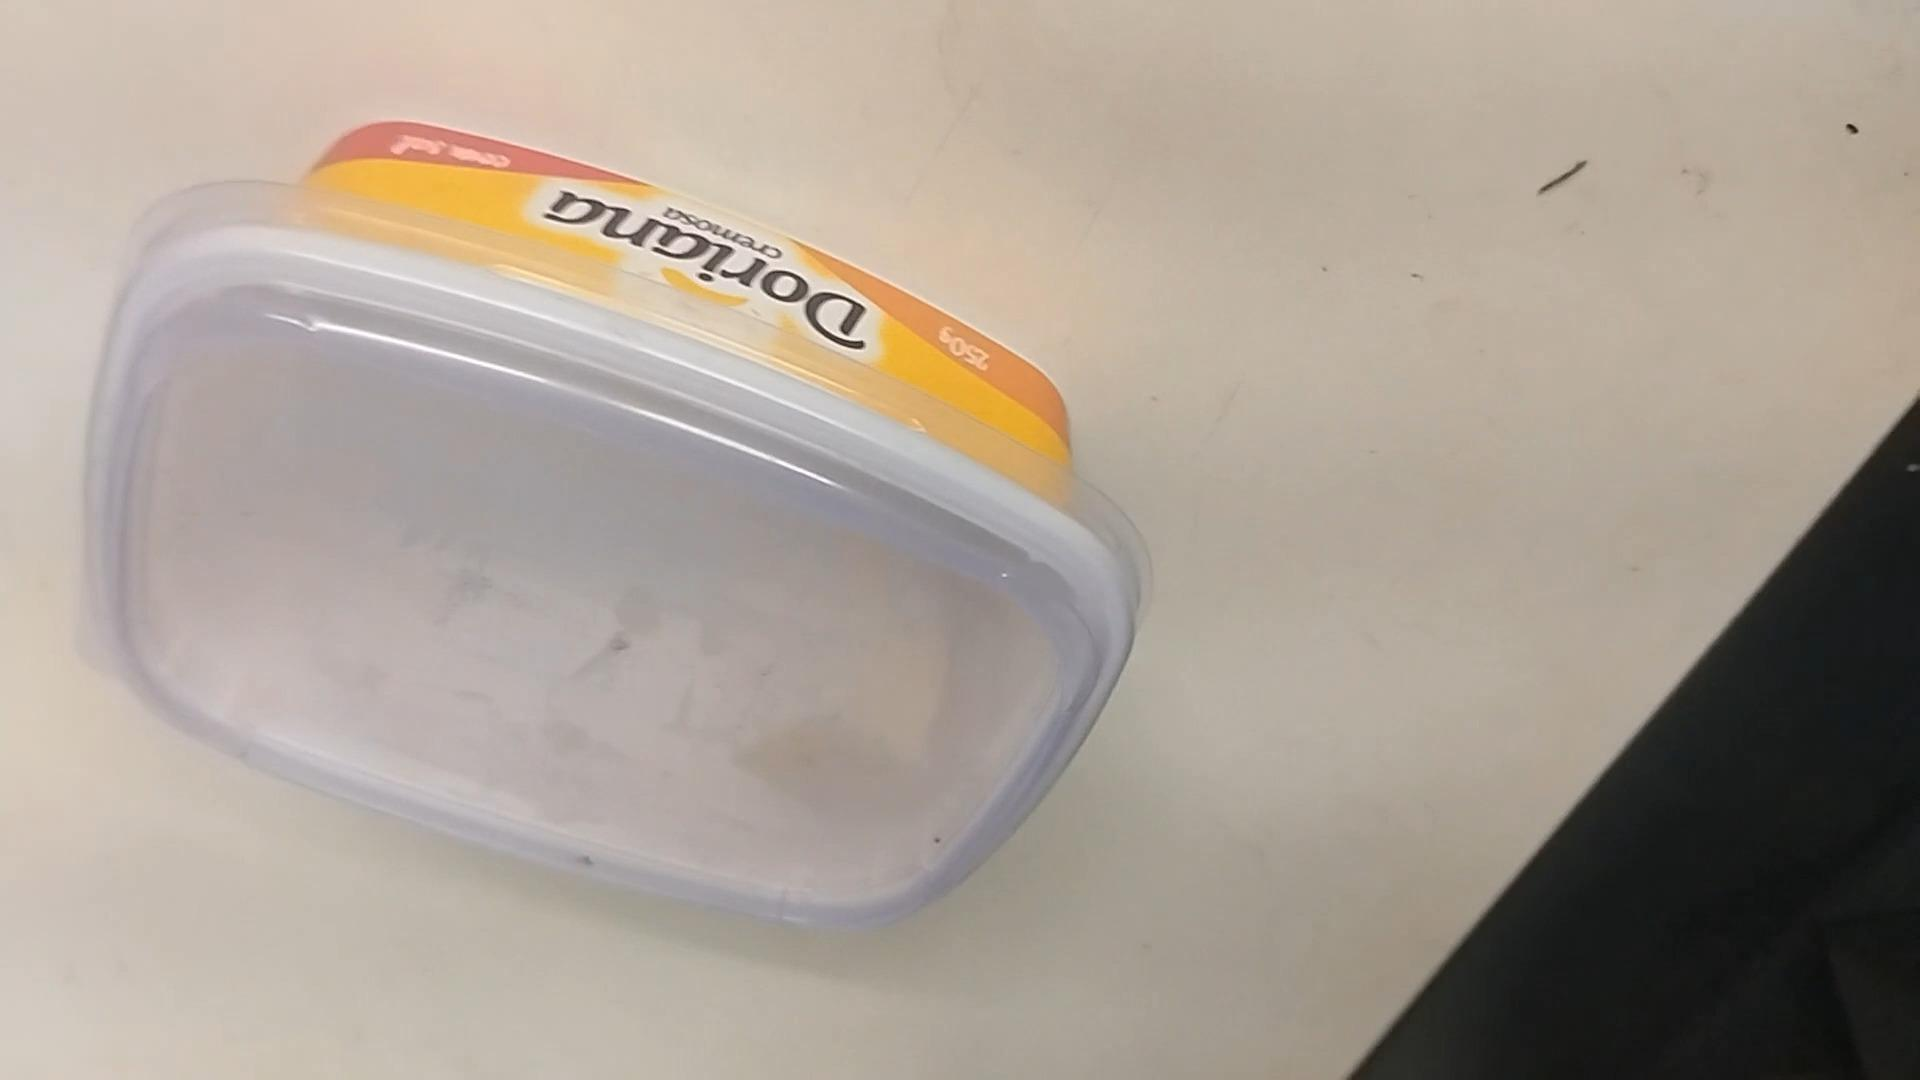butter: (80, 144, 1134, 932)
